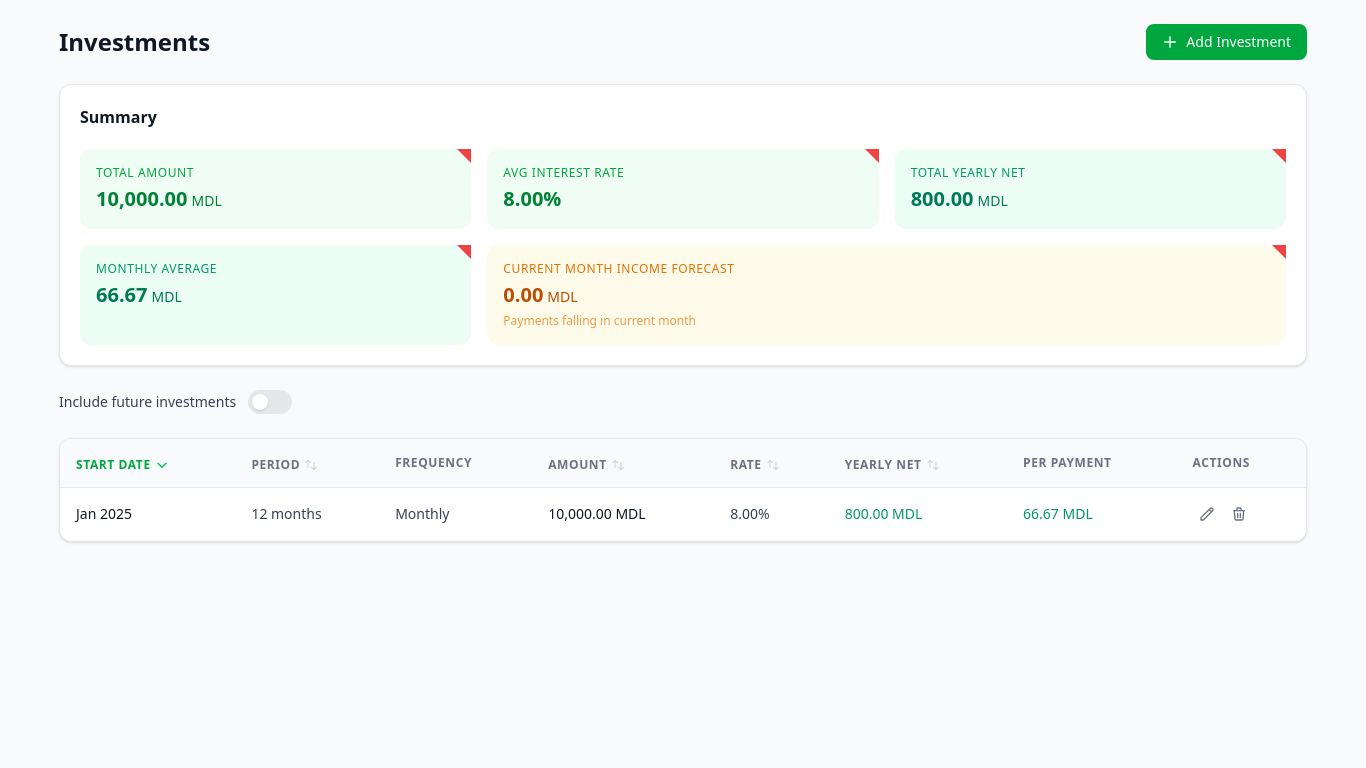
Scenario: InvestmentList › future rows shown when toggle is enabled
The width and height of the screenshot is (1366, 768).
# The toggle div contains the label text
Click the text "Include future investments": point(176, 402) [59, 390, 292, 414]
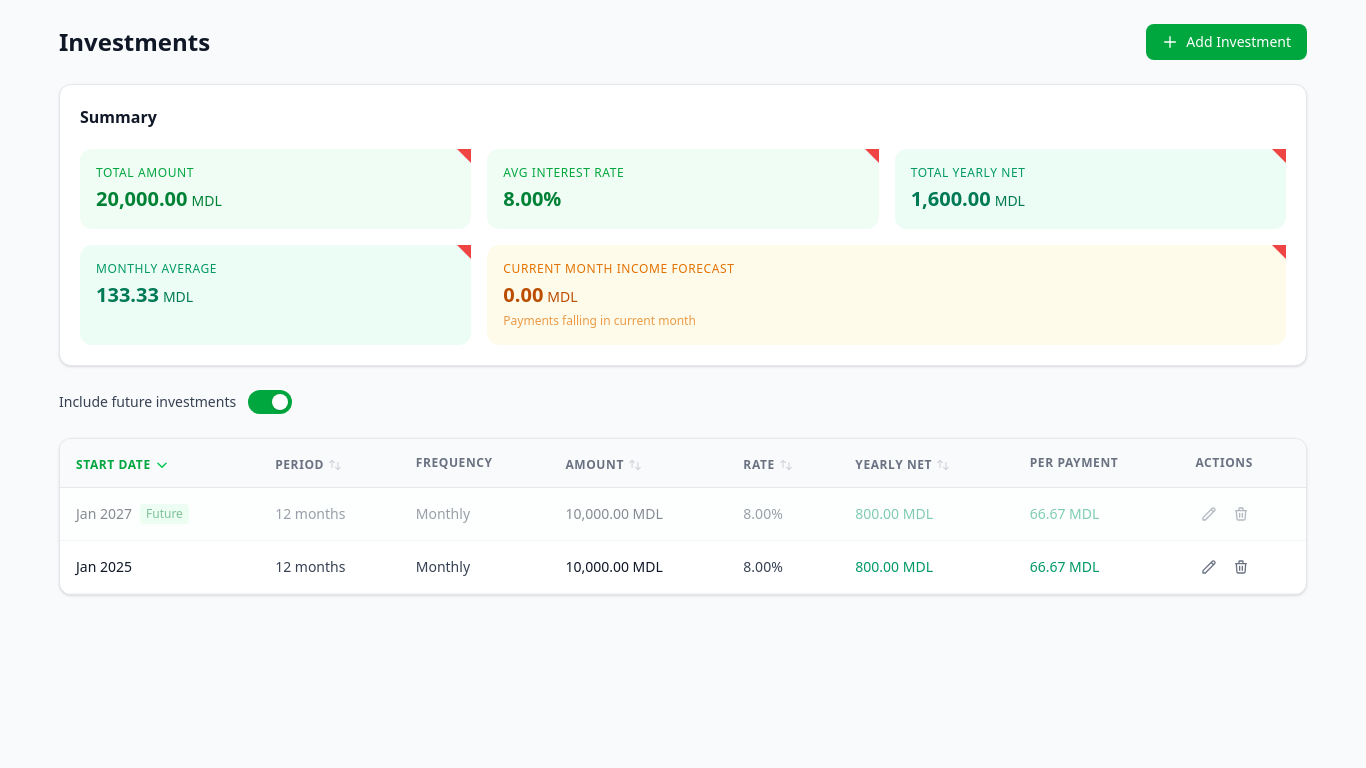
Expected: the text "Jan 2027 Future" is shown, [76, 504, 189, 524]
